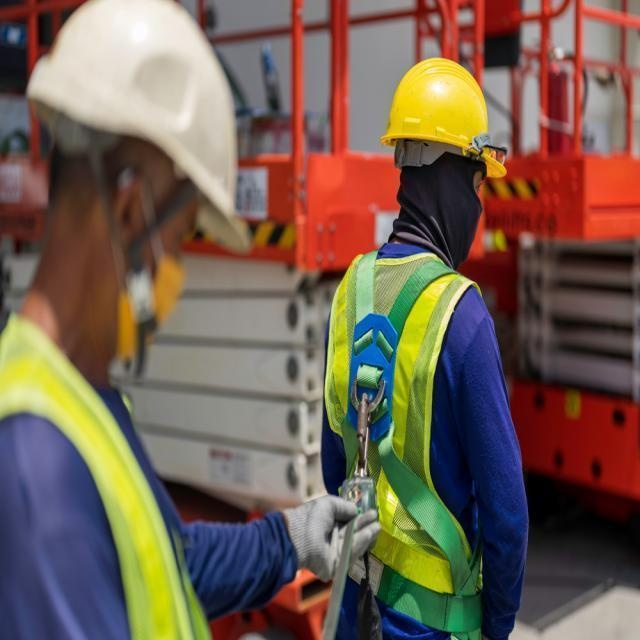Arnes_seguridad: (317, 251, 479, 640)
